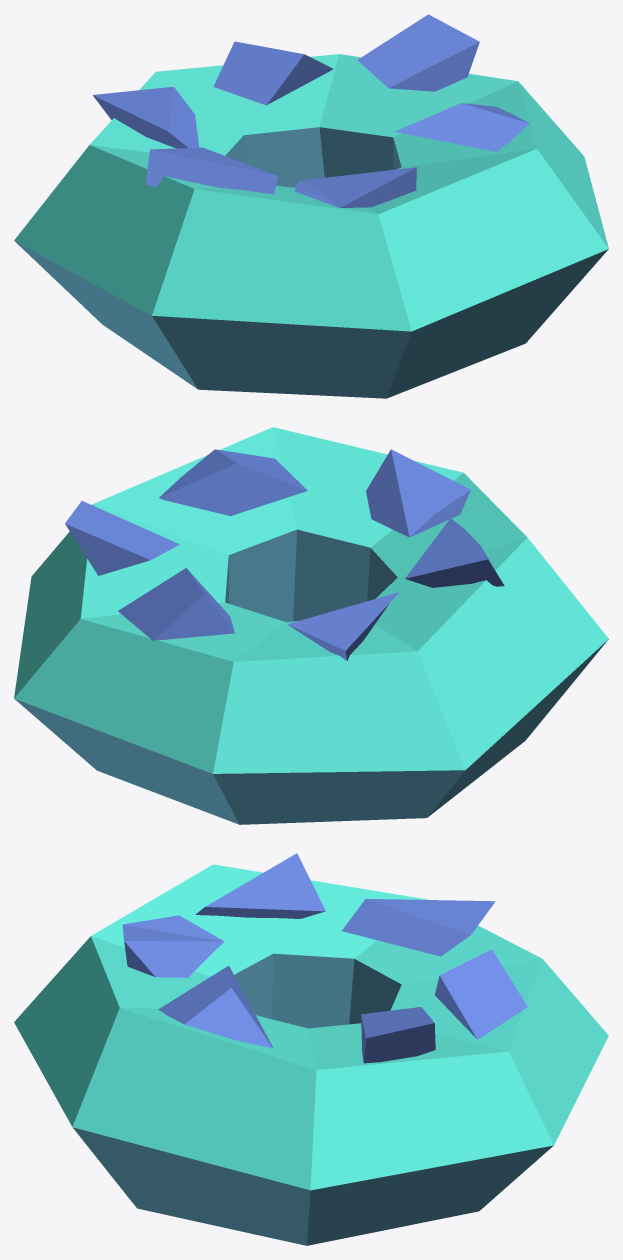
File: CoolCyanDonut.fbx
3 renders of one model, top to bottom at view 1: azimuth 30°, elevation 25°; view 2: azimuth 150°, elevation 25°; view 3: azimuth 270°, elevation 25°, orthographic.
Parts seen in each view (by area): view 1: CoolCyanDonut; view 2: CoolCyanDonut; view 3: CoolCyanDonut.
Part boxes in pixels (<box>): CoolCyanDonut: <box>14,14,608,398</box>; CoolCyanDonut: <box>14,427,608,824</box>; CoolCyanDonut: <box>14,853,608,1245</box>.
Size of the model in its own units: 53.69 by 22.41 by 54.99.
